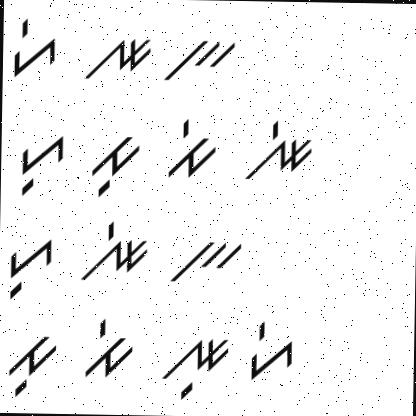he: (246, 317, 304, 390), (11, 18, 66, 80)
hu: (10, 126, 74, 204), (3, 233, 58, 302)
mbe: (78, 316, 140, 385), (160, 114, 218, 185)
mbu: (2, 328, 67, 400), (80, 127, 142, 202)
nda: (79, 29, 155, 86)
nde: (237, 108, 318, 193), (80, 220, 153, 290)
ndu: (160, 332, 233, 400)
